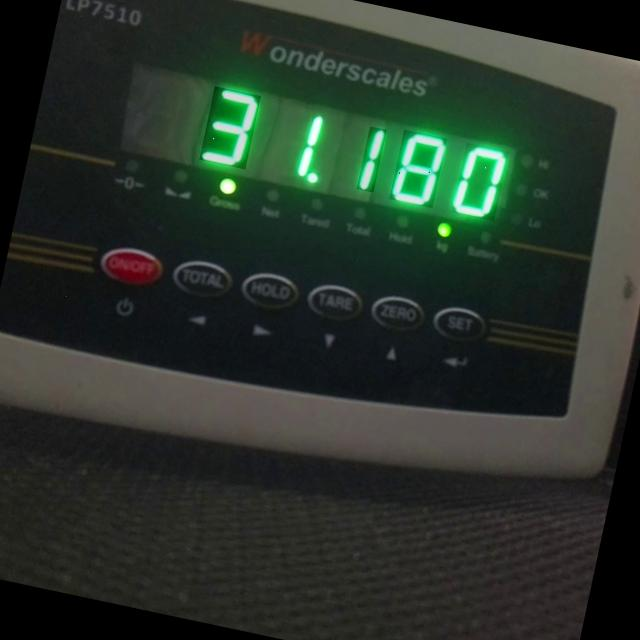.: (306, 170, 320, 184)
0: (451, 142, 508, 220)
1: (294, 104, 326, 190), (356, 126, 386, 192)
3: (199, 86, 260, 169)
8: (389, 130, 447, 208)
